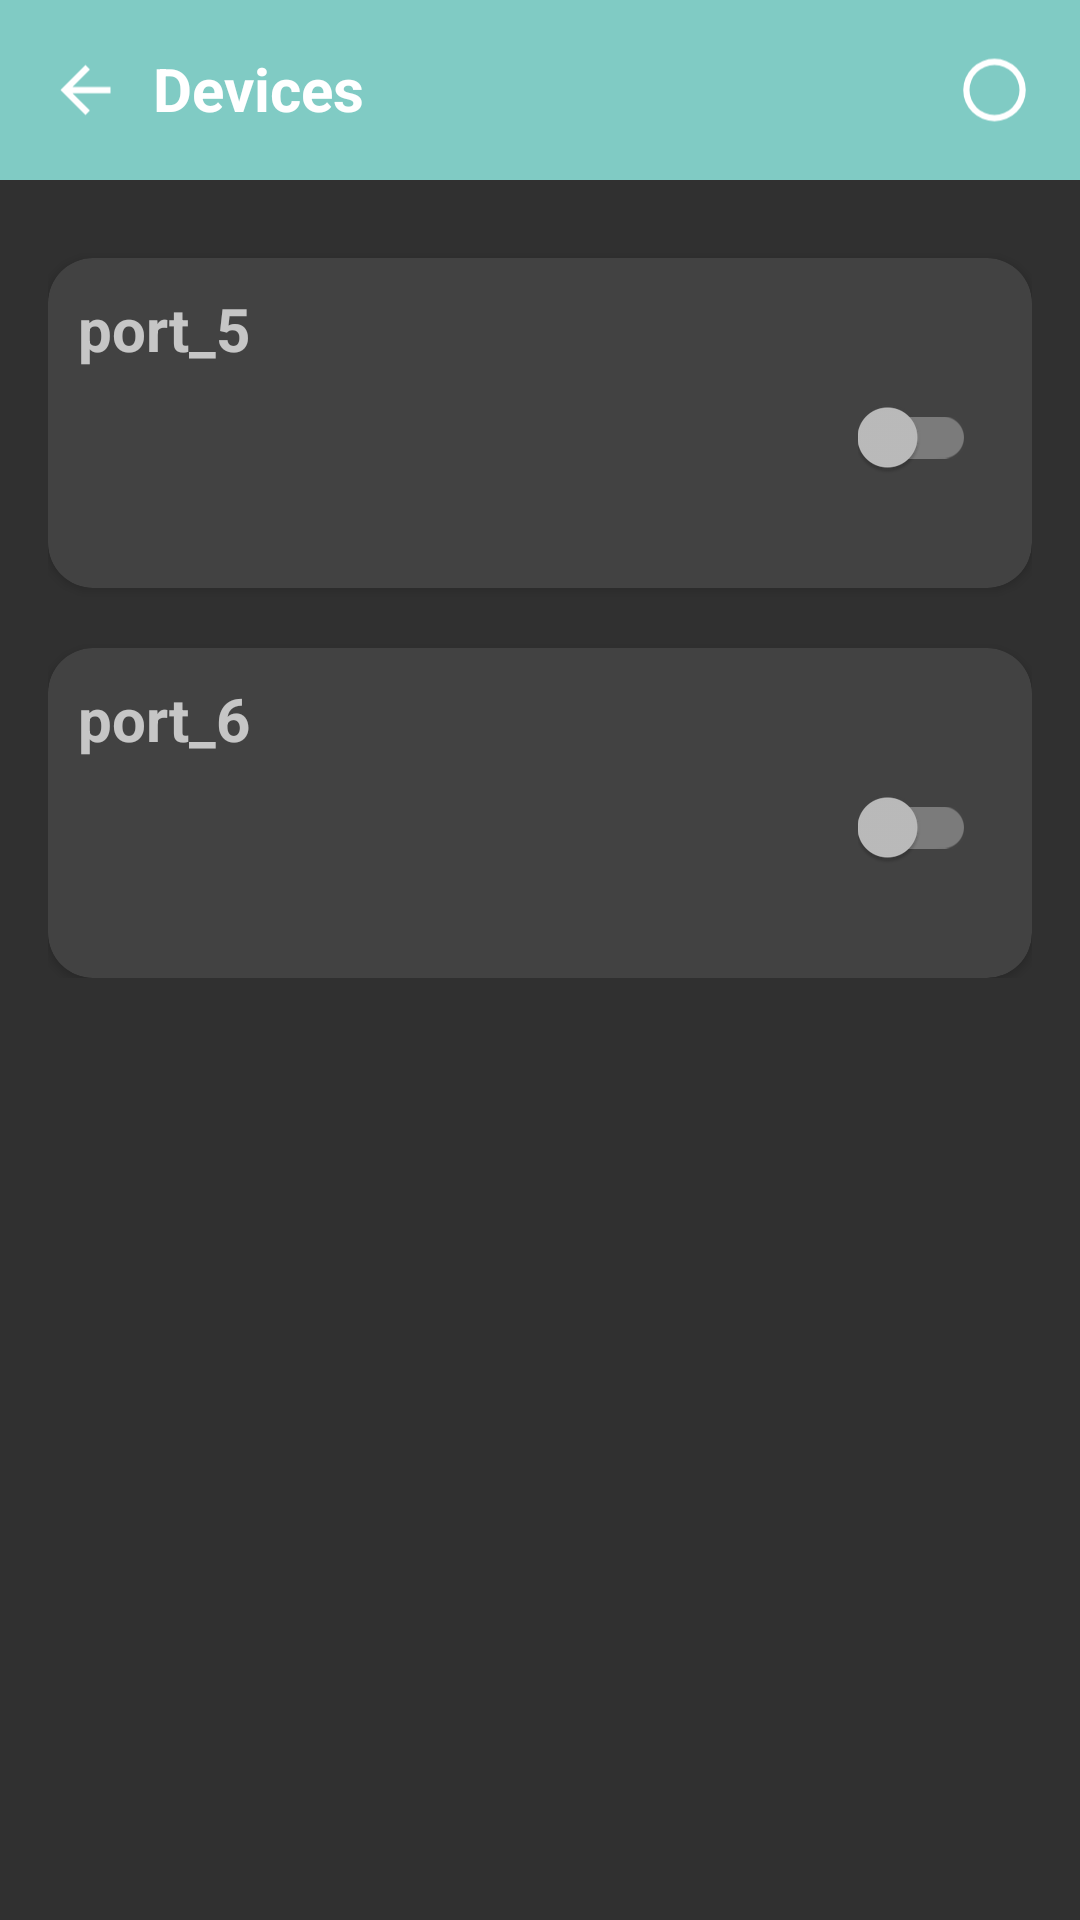

Named icons in this screenshot (1080*1920) and their centers, (x=x, y=y):
arrow back: (x=86, y=90)
